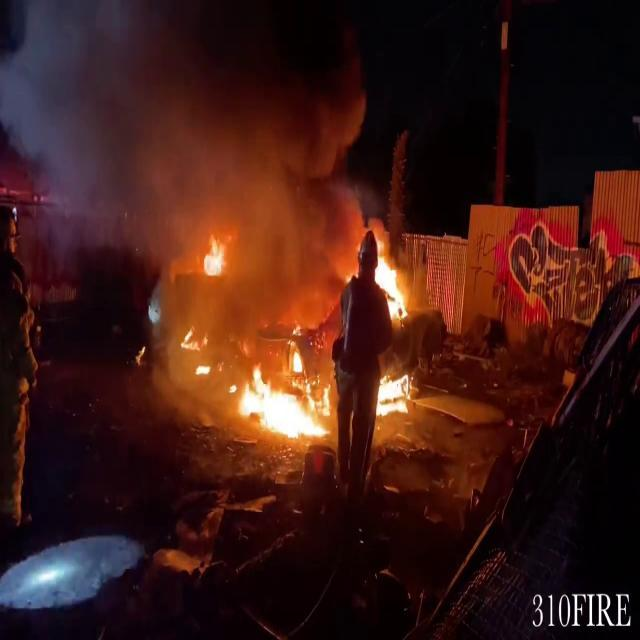Fire: (230, 344, 332, 446), (370, 241, 412, 324), (371, 368, 418, 420), (198, 229, 230, 283)
Smoke: (0, 0, 376, 256)
